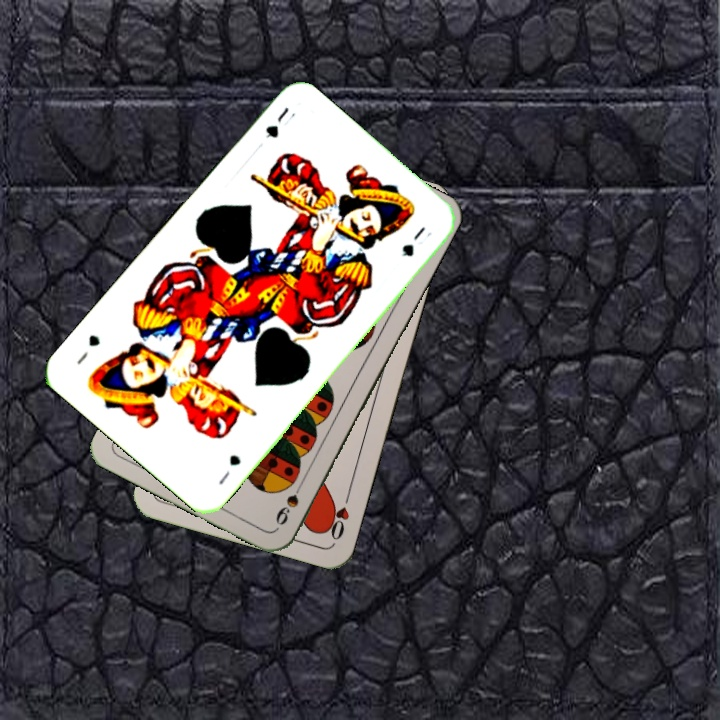GU: (261, 102, 299, 141), (214, 450, 244, 488)
HO: (323, 486, 354, 543)
S9: (271, 475, 308, 528)
